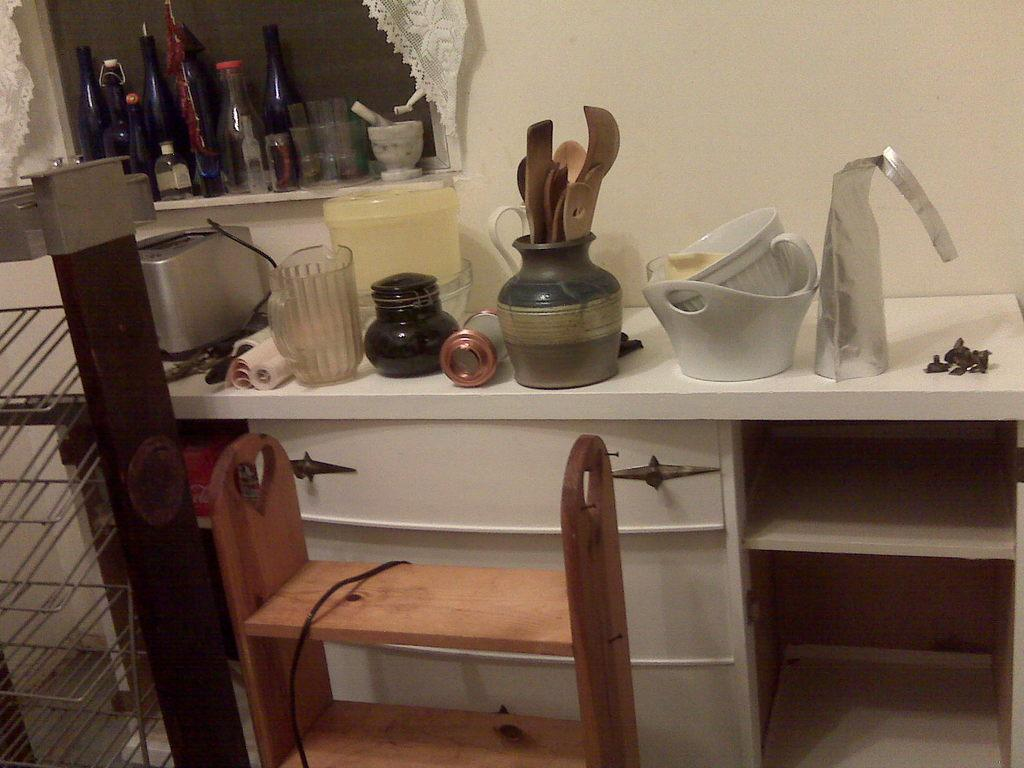cabinet_door: (289, 440, 724, 530)
handle: (622, 453, 702, 498), (298, 446, 360, 482)
